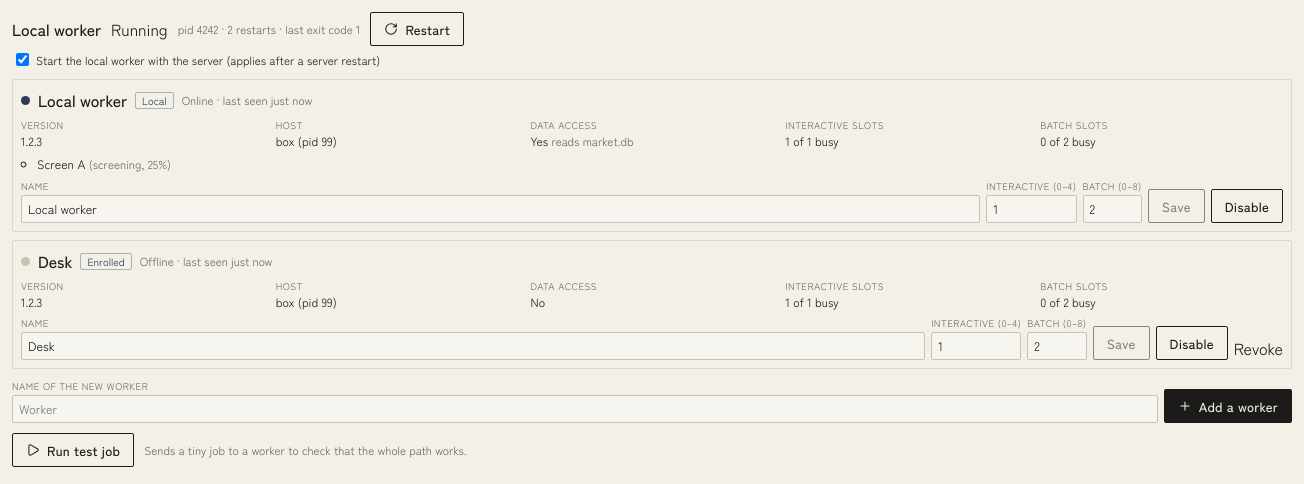
Scenario: WorkersPanel › runs a test job and reports completion or the pending detail
The image size is (1304, 484).
Expected: the text "Desk" is shown, [38,249,72,273]
Step 1. Click the button "Run test job" → click(73, 450), box [12,433,134,467]
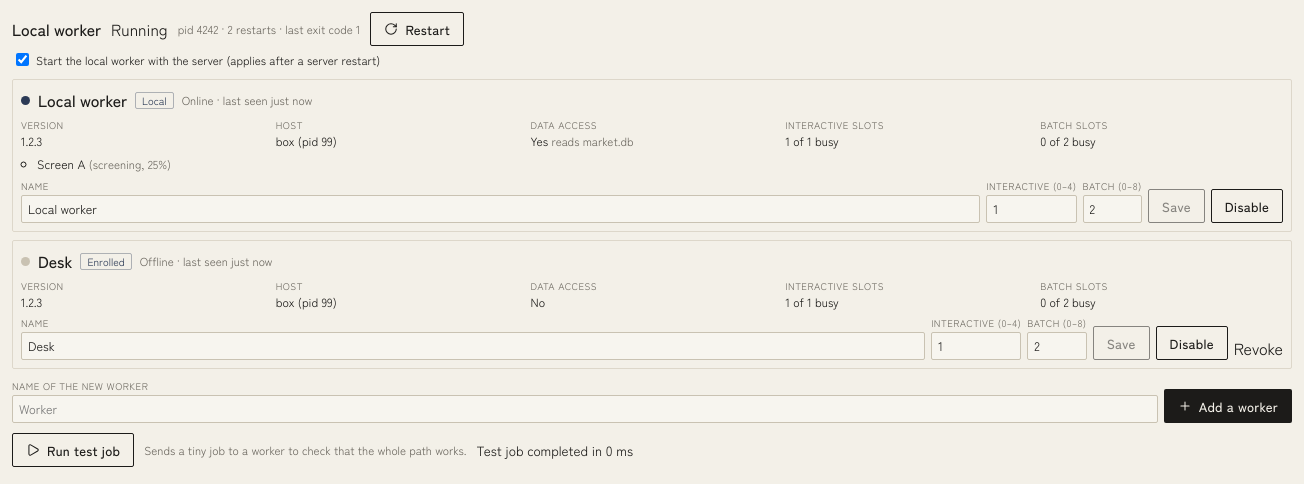
Now the text "Test job completed in 0 ms" is shown, box [476,440,633,460]
Step 2. Click the button "Run test job" → click(73, 450), box [12,433,134,467]
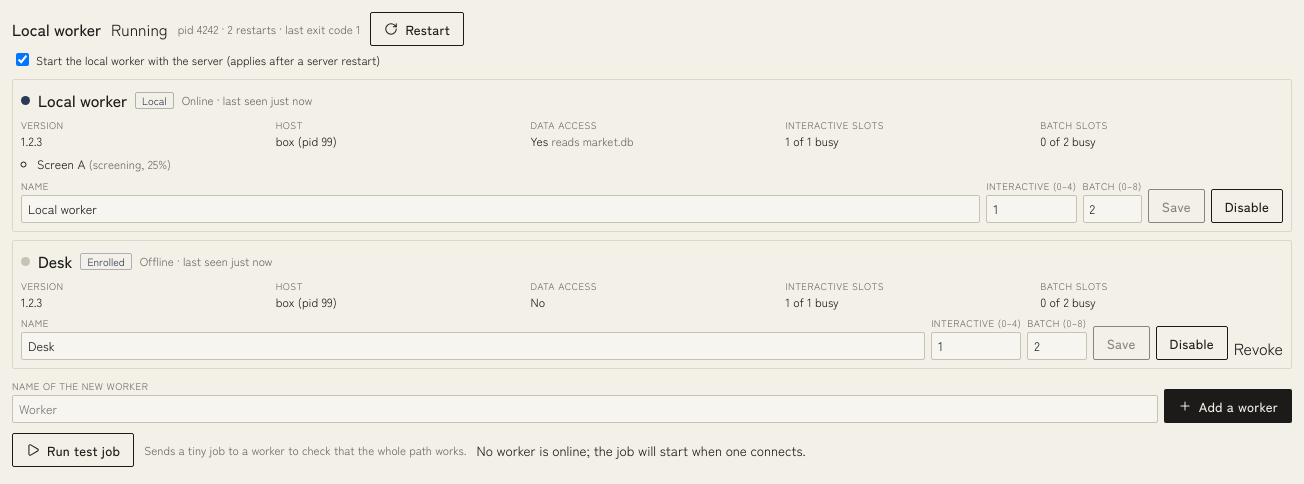
Now the text "No worker is online; the job will start when one connects." is shown, box [476,440,806,460]
